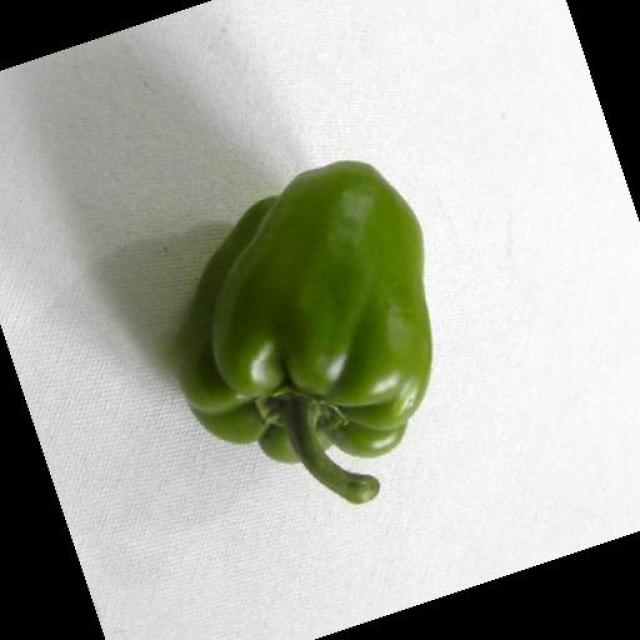Fresh_Capsicum: (161, 164, 494, 471)
